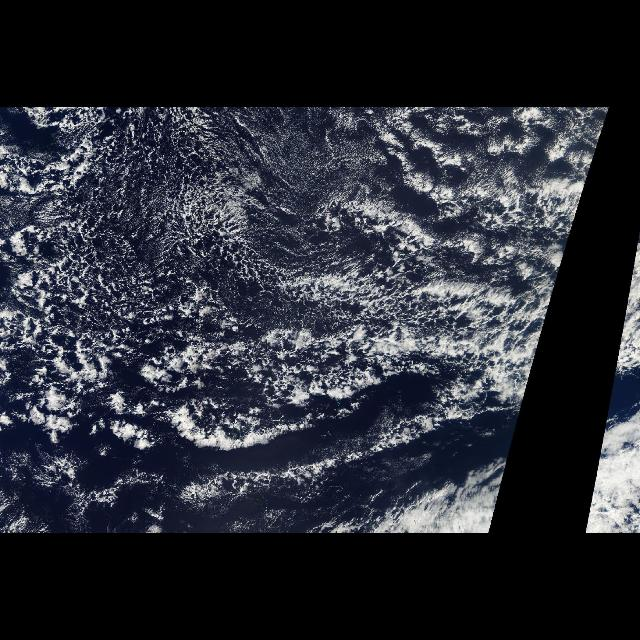Gravel: (4, 117, 564, 437)
Sugar: (240, 112, 400, 270)
